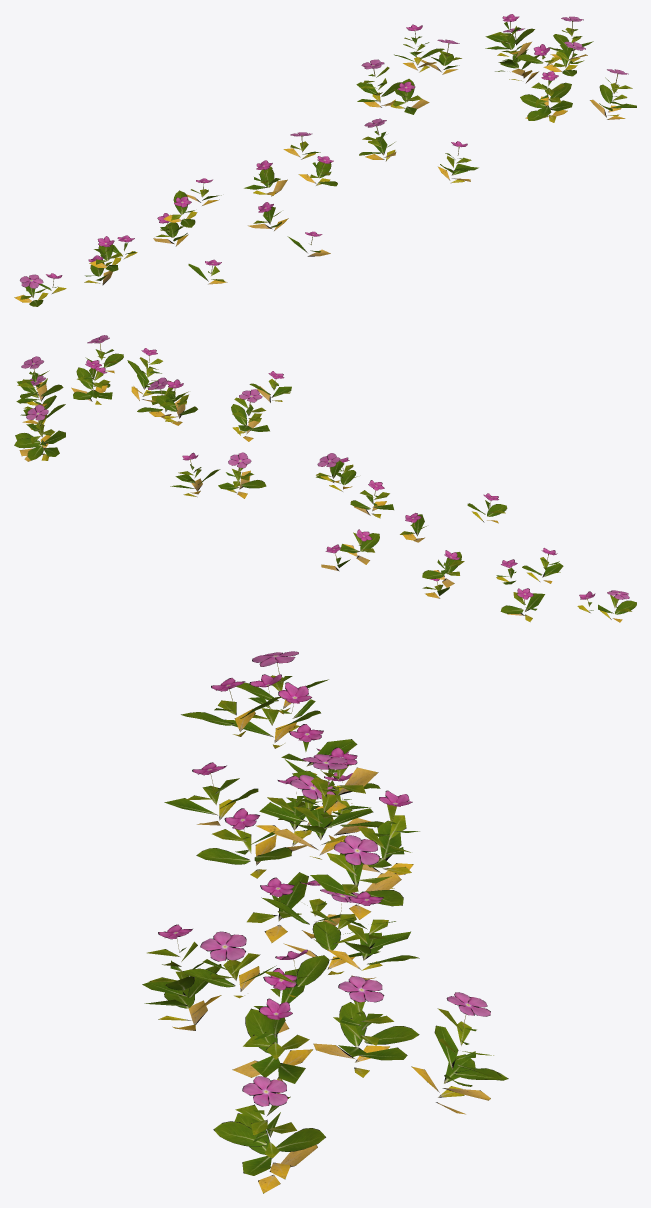
Rendered from ph-periwinkle_plant.glb.
The picture shows the model from 3 angles, top to bottom: view 1: azimuth 30°, elevation 25°; view 2: azimuth 150°, elevation 25°; view 3: azimuth 270°, elevation 25°; orthographic projection. The views are drawn at different scales.
Parts seen in each view (by area): view 1: periwinkle_plant_04_LOD0; view 2: periwinkle_plant_04_LOD0; view 3: periwinkle_plant_04_LOD0.
Boxes of the visible parts, x1=… form: periwinkle_plant_04_LOD0: x1=14, y1=14, x2=636, y2=306; periwinkle_plant_04_LOD0: x1=14, y1=335, x2=636, y2=622; periwinkle_plant_04_LOD0: x1=142, y1=651, x2=508, y2=1193.
Size of the model in its own units: 1.24 by 0.3467 by 0.3208.
Materials: 1 (1 with a texture image).
